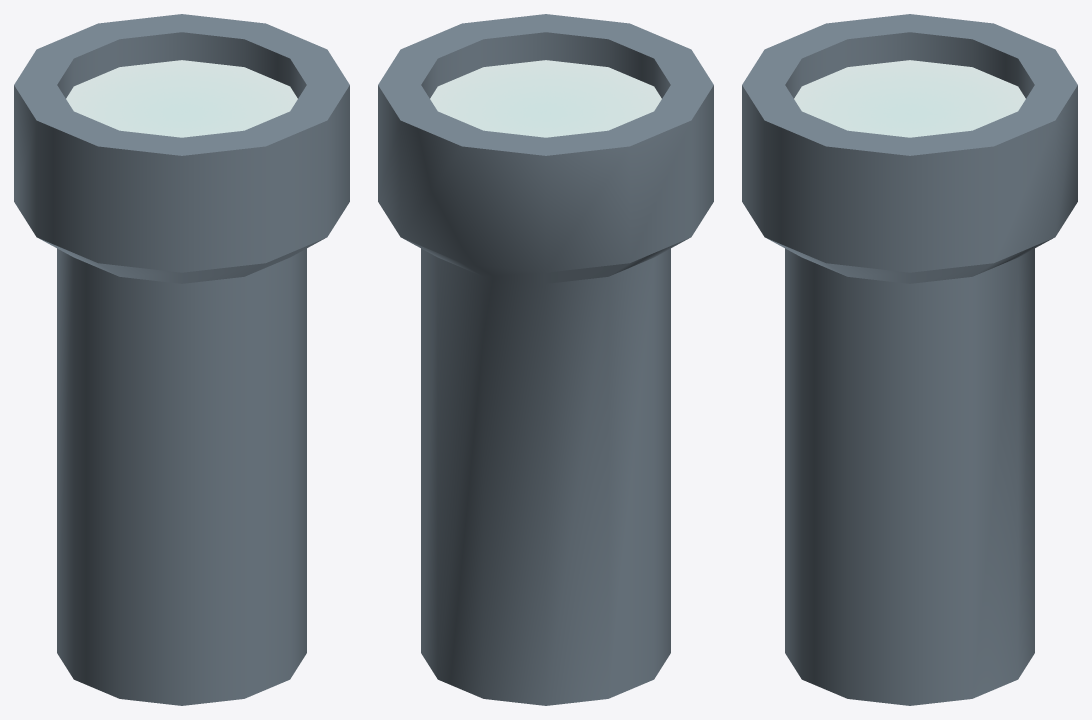
The model's file is LIGHT1.fbx.
The picture shows the model from 3 angles, left to right: view 1: azimuth 30°, elevation 25°; view 2: azimuth 150°, elevation 25°; view 3: azimuth 270°, elevation 25°; orthographic projection.
Visible parts, largest first — view 1: pCylinder1; view 2: pCylinder1; view 3: pCylinder1.
Part boxes in pixels (x1,y1,x2,y2): pCylinder1: (14, 14, 349, 705); pCylinder1: (378, 14, 713, 705); pCylinder1: (742, 14, 1077, 705).
Bounding box in the file's own units: 14.73 × 27.49 × 14.73.
1 material, 1 textured.
